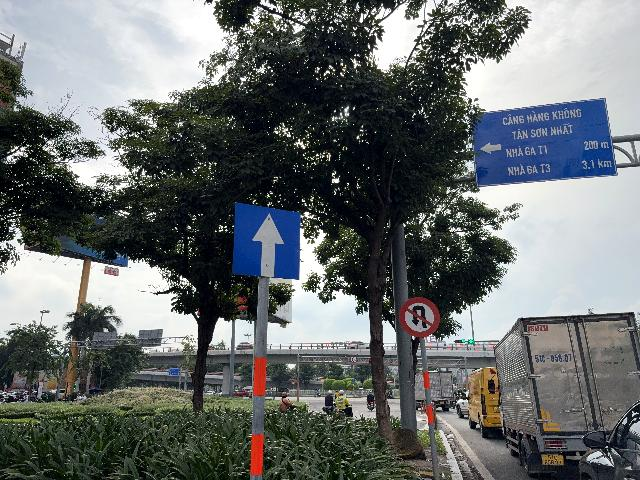cam-quay-dau-xe: (399, 296, 440, 337)
duong-mot-chieu: (231, 202, 301, 280)
